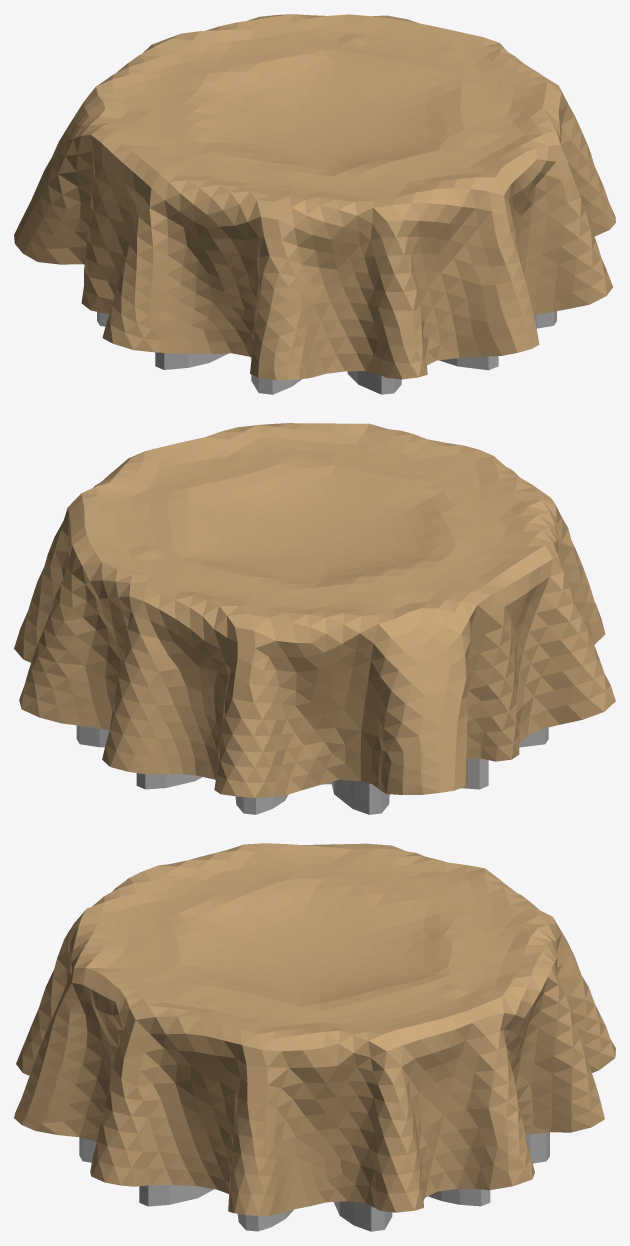
File: level_1.glb
3 renders of one model, top to bottom at view 1: azimuth 30°, elevation 25°; view 2: azimuth 150°, elevation 25°; view 3: azimuth 270°, elevation 25°, orthographic. The views are drawn at different scales.
Parts seen in each view (by area): view 1: world, object.obj; view 2: world, object.obj; view 3: world, object.obj.
Boxes of the visible parts, x1,y1,x2,y2 form: world: (14, 14, 615, 380); object.obj: (97, 311, 556, 394); world: (14, 423, 615, 797); object.obj: (76, 725, 548, 814); world: (14, 843, 615, 1216); object.obj: (79, 1132, 549, 1231).
Bounding box in the file's own units: 0.4466 × 0.1602 × 0.4469.
